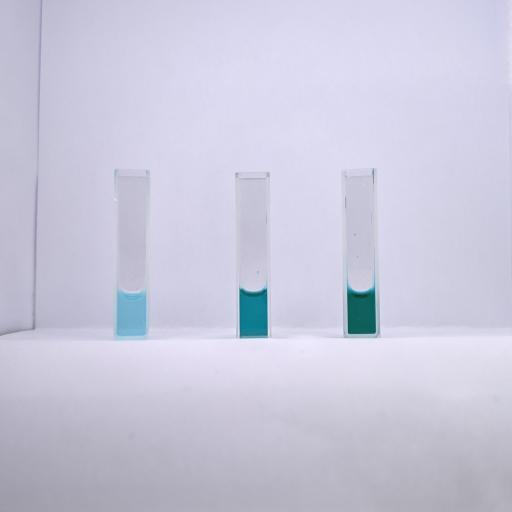cuvette: (339, 166, 382, 340), (112, 166, 153, 340), (233, 170, 273, 339)
liquid: (117, 290, 146, 336), (240, 290, 268, 335), (347, 289, 375, 333)
